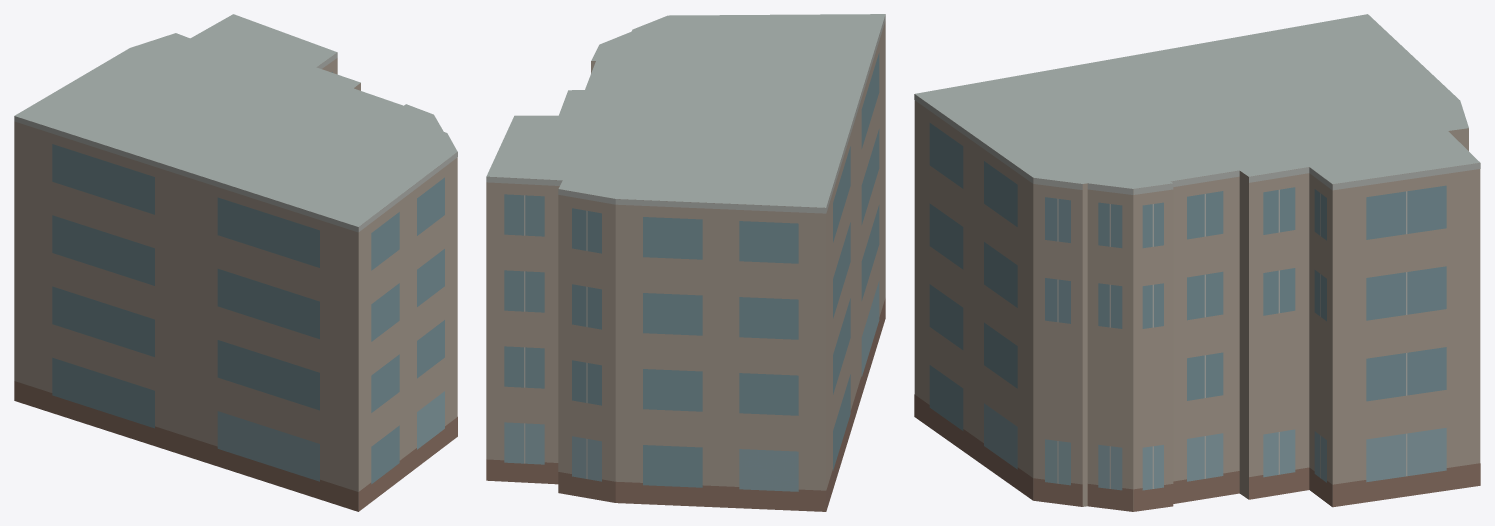
Rendered from survey-upis-32632124.glb.
The picture shows the model from 3 angles, left to right: view 1: azimuth 30°, elevation 25°; view 2: azimuth 150°, elevation 25°; view 3: azimuth 270°, elevation 25°; orthographic projection. The views are drawn at different scales.
Visible parts, largest first — view 1: survey-upis-32632124.tmp; view 2: survey-upis-32632124.tmp; view 3: survey-upis-32632124.tmp.
Boxes of the visible parts, box(x1,y1,x2,y2) form: survey-upis-32632124.tmp: box(14, 14, 457, 511); survey-upis-32632124.tmp: box(486, 14, 885, 511); survey-upis-32632124.tmp: box(914, 14, 1480, 511).
Size of the model in its own units: 14.88 by 12.8 by 20.34.
